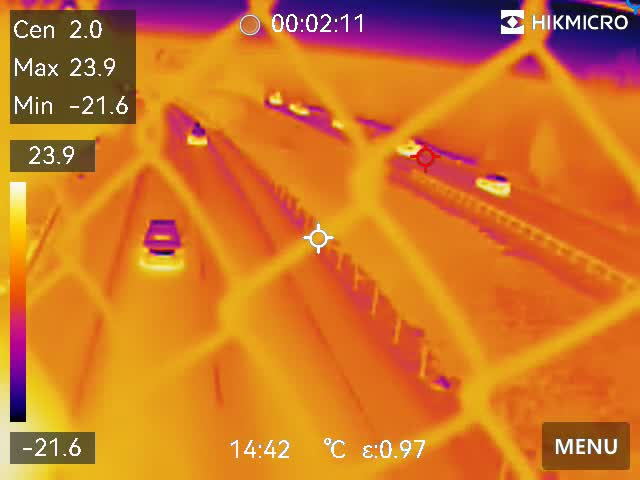vehicle: (133, 215, 187, 272), (471, 170, 512, 199), (177, 121, 212, 148), (390, 138, 423, 160), (286, 101, 311, 116), (268, 93, 286, 105)
